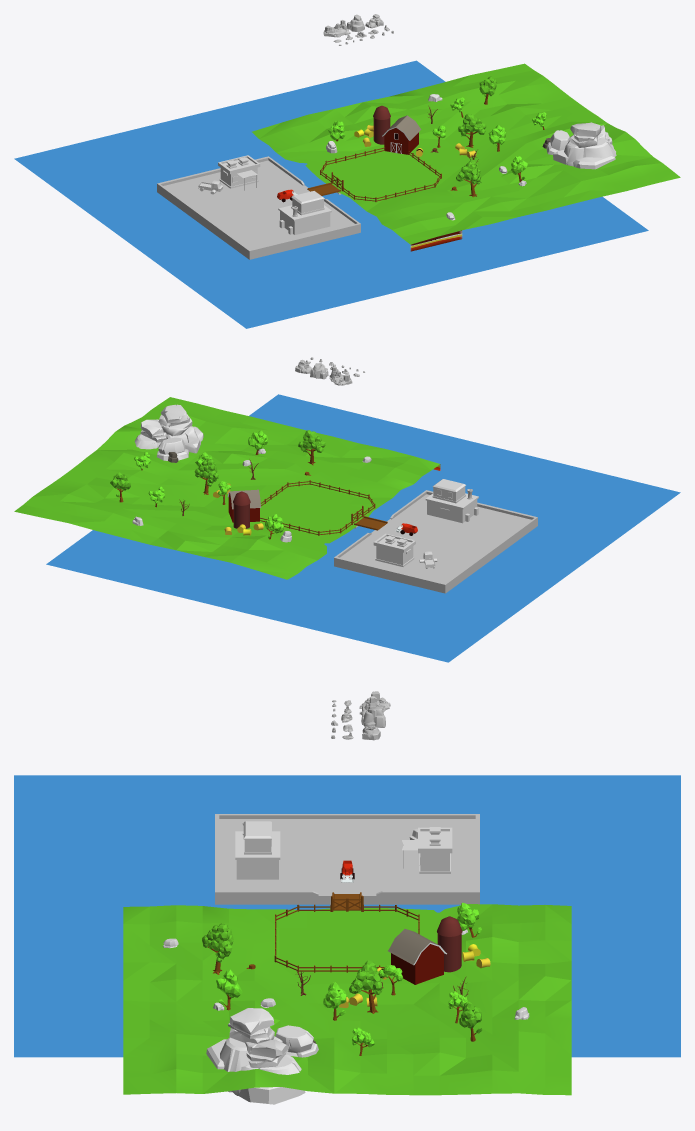
Rendered from map.fbx.
3 renders of one model, top to bottom at view 1: azimuth 30°, elevation 25°; view 2: azimuth 150°, elevation 25°; view 3: azimuth 270°, elevation 25°, orthographic. The views are drawn at different scales.
Parts seen in each view (by area): view 1: Plane, Cube.001, Cube.022, Rock_3.001, Cube.023, Cube.002, Cube.027, Cylinder.021, _6_tree.001, _6_tree.002; view 2: Plane, Cube.001, Cube.022, Rock_3.001, Cube.023, Cube.027, Cylinder.021, Cube.002, Rock_14.002, _6_tree.002, _6_tree.001; view 3: Plane, Cube.001, Cube.022, Rock_3.001, Cube.023, Cube.002, Cube.027, Cylinder.021, Rock_14.002, _6_tree.001, _6_tree.002.
Boxes of the visible parts, x1,y1,x2,y2 form: Plane: (14, 60, 648, 328); Cube.001: (252, 63, 680, 251); Cube.022: (157, 156, 360, 259); Rock_3.001: (553, 122, 616, 169); Cube.023: (278, 191, 331, 234); Cube.002: (382, 115, 421, 154); Cube.027: (218, 155, 260, 188); Cylinder.021: (373, 105, 390, 144); _6_tree.001: (458, 113, 486, 147); _6_tree.002: (456, 159, 481, 197); Plane: (46, 394, 680, 662); Cube.001: (14, 397, 440, 579); Cube.022: (334, 490, 537, 593); Rock_3.001: (134, 404, 203, 453); Cube.023: (425, 479, 478, 523); Cube.027: (373, 533, 415, 566); Cylinder.021: (233, 491, 250, 528); Cube.002: (227, 489, 261, 522); Rock_14.002: (157, 437, 188, 460); _6_tree.002: (298, 430, 325, 465); _6_tree.001: (194, 459, 218, 494); Plane: (14, 775, 680, 1057); Cube.001: (123, 904, 571, 1095); Cube.022: (215, 814, 479, 904); Rock_3.001: (206, 1008, 305, 1104); Cube.023: (235, 821, 280, 879); Cube.002: (388, 929, 446, 984); Cube.027: (418, 827, 452, 873); Cylinder.021: (437, 916, 462, 972); Rock_14.002: (275, 1025, 318, 1057); _6_tree.001: (349, 960, 382, 1013); _6_tree.002: (202, 923, 233, 974).
Bounding box in the file's own units: 52320 × 18070 × 44567.
